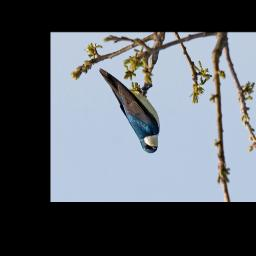Swallow: (96, 67, 163, 157)
